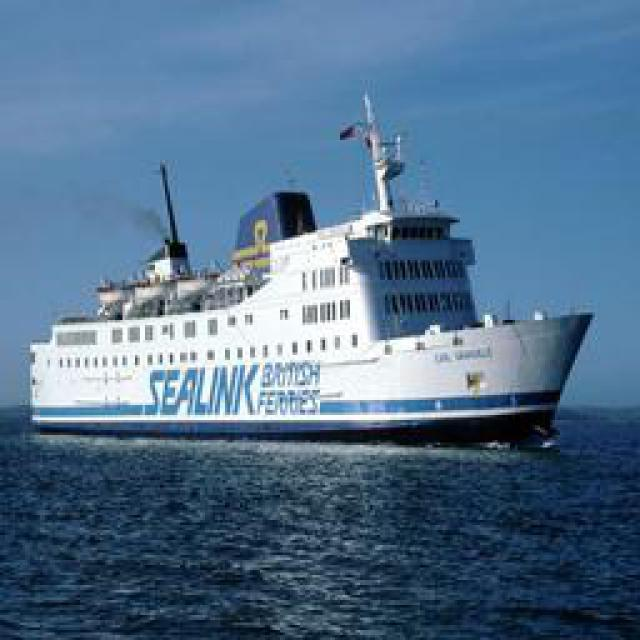Ship: (31, 73, 589, 441)
